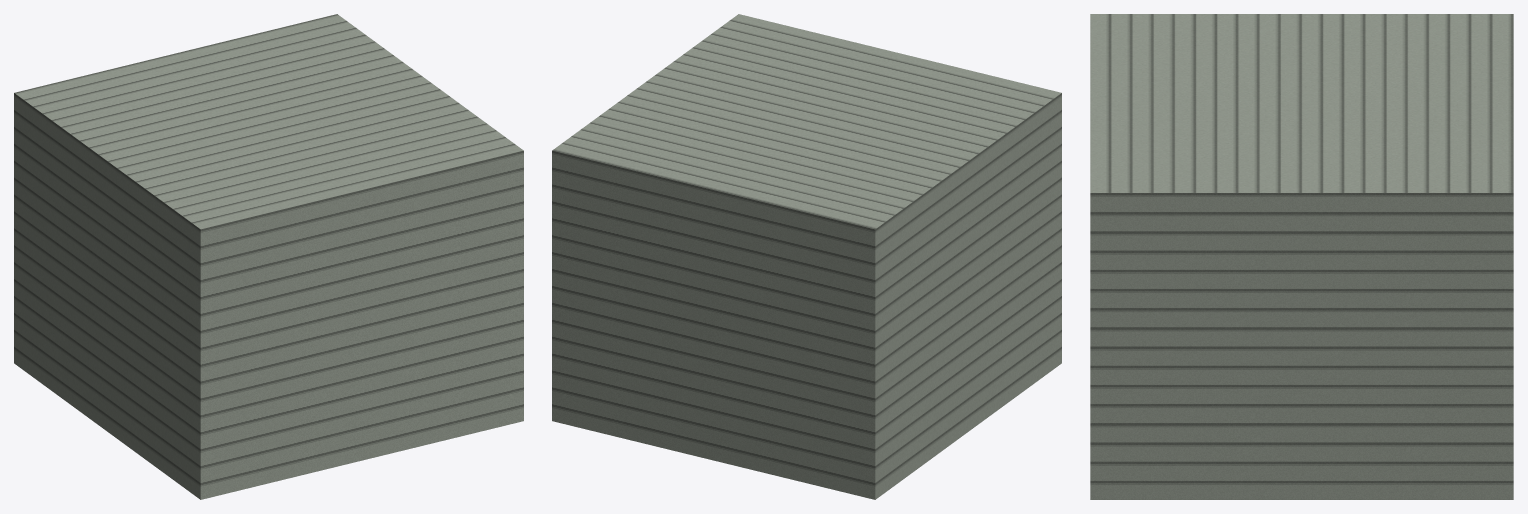
The model's file is jungle_gym_climbing_structure.glb.
3 renders of one model, left to right at view 1: azimuth 30°, elevation 25°; view 2: azimuth 150°, elevation 25°; view 3: azimuth 270°, elevation 25°, orthographic. The views are drawn at different scales.
Parts seen in each view (by area): view 1: jungle_gym_climbing_structure-col; view 2: jungle_gym_climbing_structure-col; view 3: jungle_gym_climbing_structure-col.
Part boxes in pixels (box(x1,y1,x2,y2)): jungle_gym_climbing_structure-col: box(14, 14, 523, 499); jungle_gym_climbing_structure-col: box(552, 14, 1061, 499); jungle_gym_climbing_structure-col: box(1090, 14, 1513, 499).
Bounding box in the file's own units: 2.5 × 2 × 2.5.
Materials: 1 (1 with a texture image).
